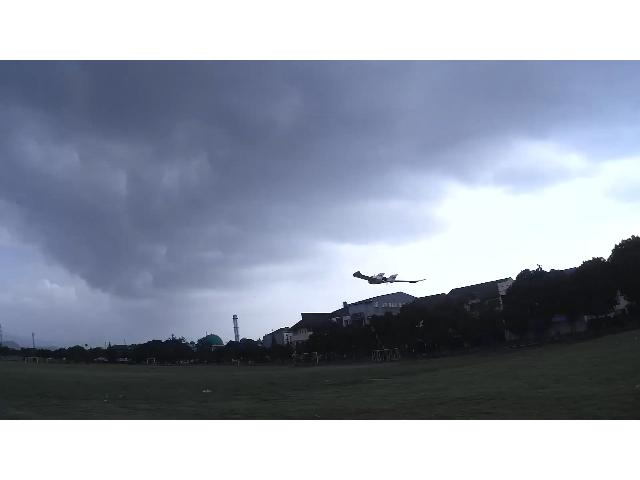Anti-Drone: (352, 272, 426, 284)
